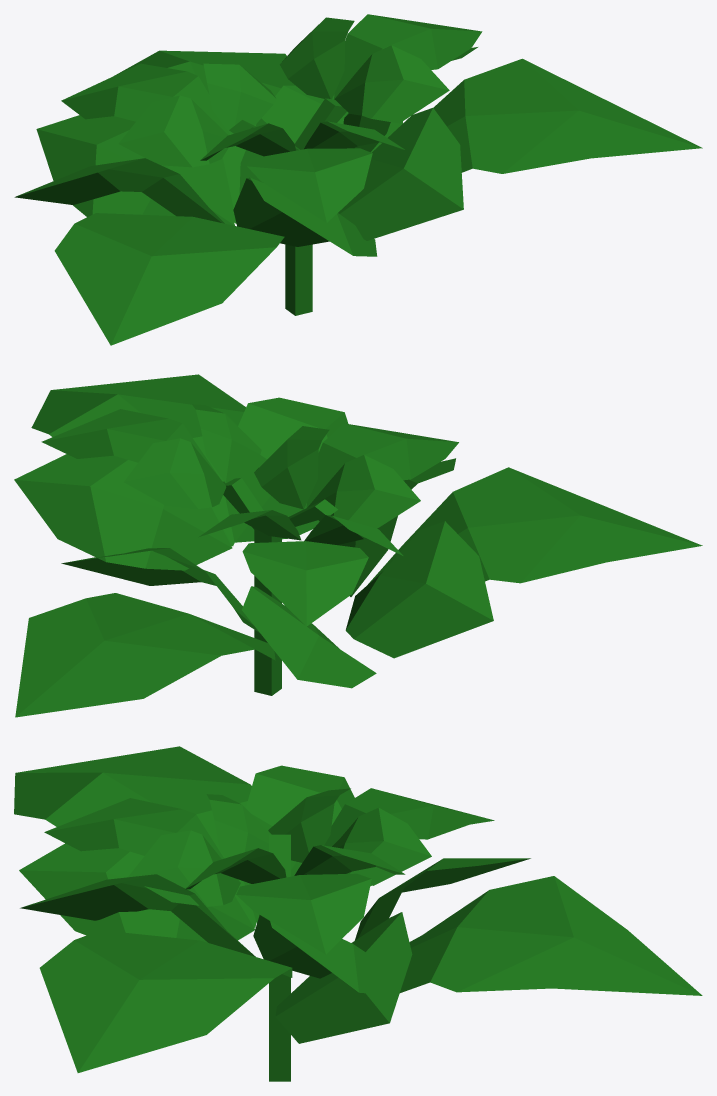
File: Plant_stage_02.fbx
3 views of the same model, one above another, from view 1: azimuth 30°, elevation 25°; view 2: azimuth 150°, elevation 25°; view 3: azimuth 270°, elevation 25° (orthographic). The views are drawn at different scales.
Parts seen in each view (by area): view 1: Plant_stage_02; view 2: Plant_stage_02; view 3: Plant_stage_02.
Boxes of the visible parts, left/top/right/bottom form: Plant_stage_02: left=14, top=14, right=702, bottom=345; Plant_stage_02: left=14, top=374, right=702, bottom=717; Plant_stage_02: left=14, top=746, right=702, bottom=1081.
Size of the model in its own units: 37.92 by 14.72 by 33.74.
